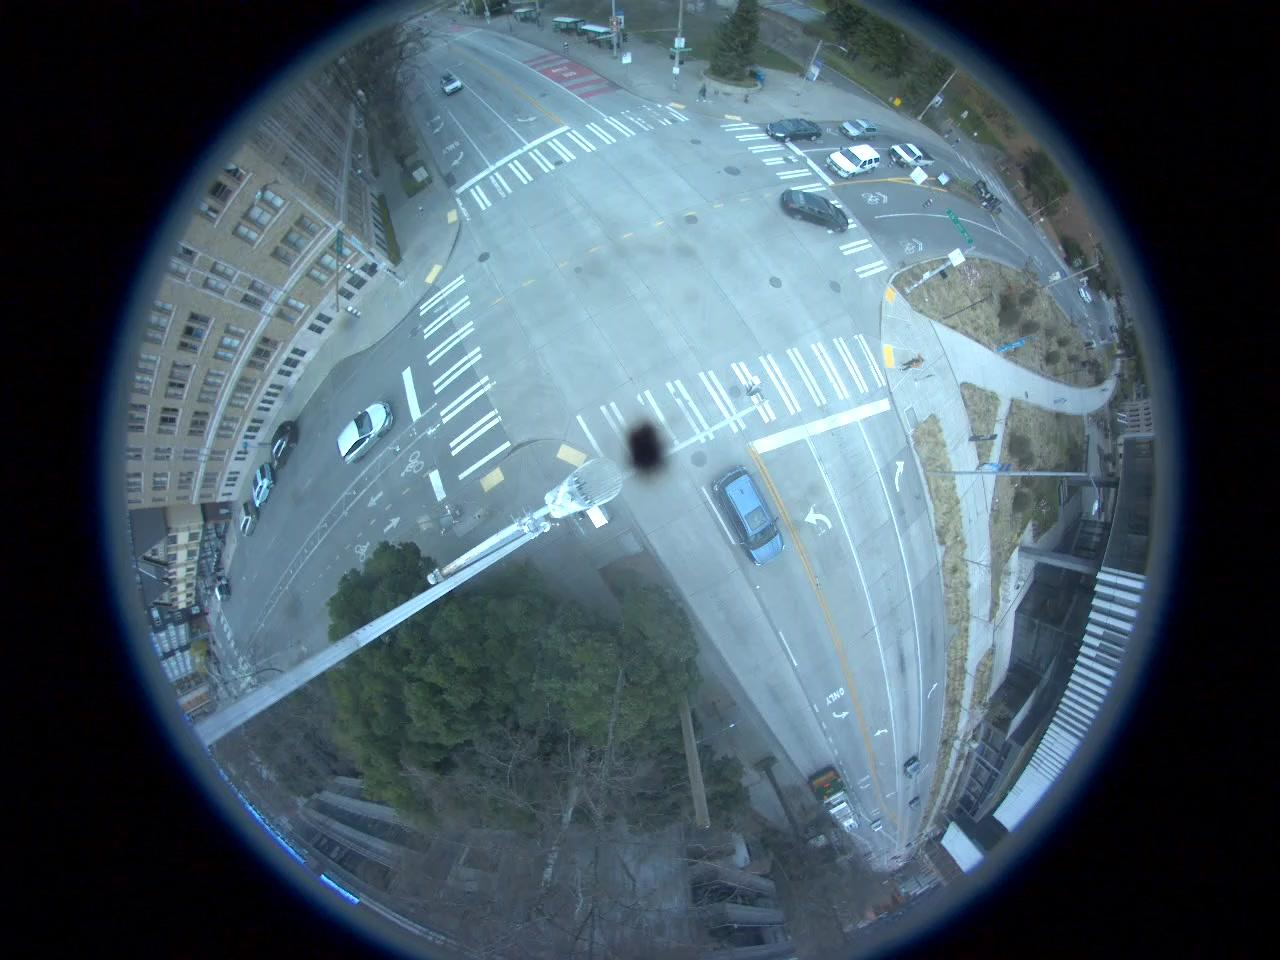bus: (808, 769, 856, 831)
car: (712, 468, 791, 566), (334, 400, 396, 466), (784, 186, 852, 238), (762, 116, 826, 144), (832, 144, 881, 177), (889, 140, 936, 174), (269, 421, 297, 472), (836, 117, 880, 141), (252, 465, 274, 511), (238, 498, 262, 536), (901, 750, 921, 786), (439, 73, 466, 98)
person: (902, 354, 927, 373), (695, 80, 710, 104)
